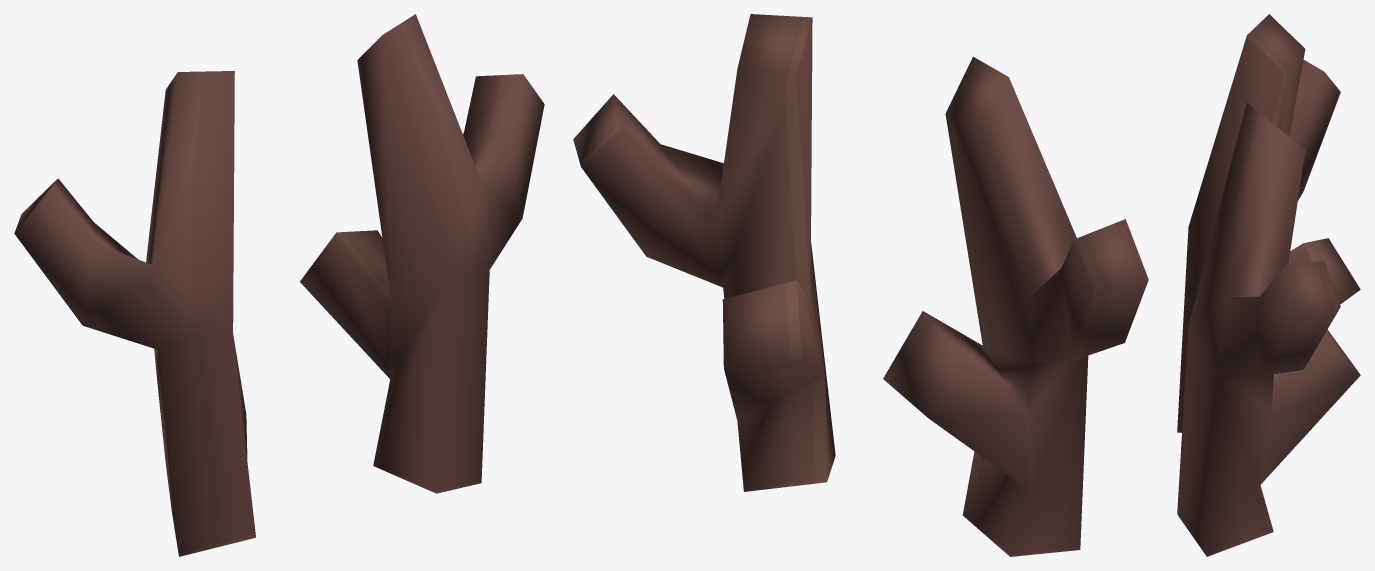
Rendered from Deer_Antlers_B.fbx.
3 views of the same model, side by side, from view 1: azimuth 30°, elevation 25°; view 2: azimuth 150°, elevation 25°; view 3: azimuth 270°, elevation 25° (orthographic). The views are drawn at different scales.
Visible parts, largest first — view 1: Deer_Antlers_B; view 2: Deer_Antlers_B; view 3: Deer_Antlers_B.
Part boxes in pixels (x1=…): Deer_Antlers_B: x1=14, y1=14, x2=544, y2=556; Deer_Antlers_B: x1=573, y1=14, x2=1148, y2=556; Deer_Antlers_B: x1=1177, y1=14, x2=1360, y2=556.
Bounding box in the file's own units: 76.73 × 62.56 × 24.77.
